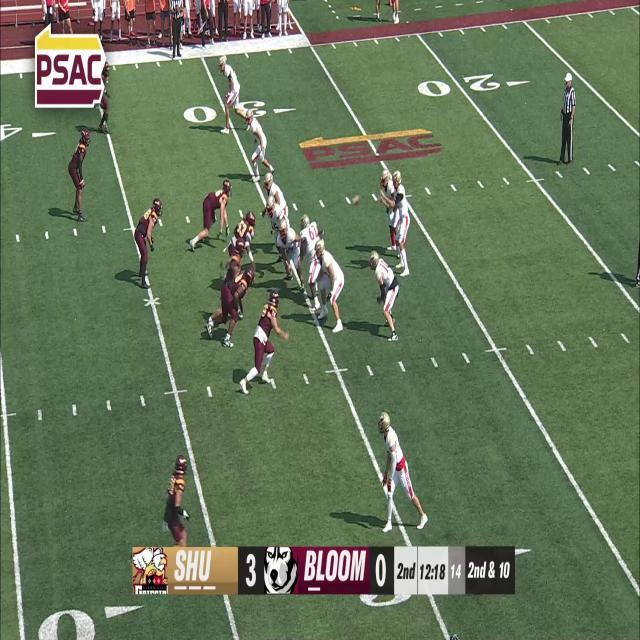football: (352, 194, 362, 208)
